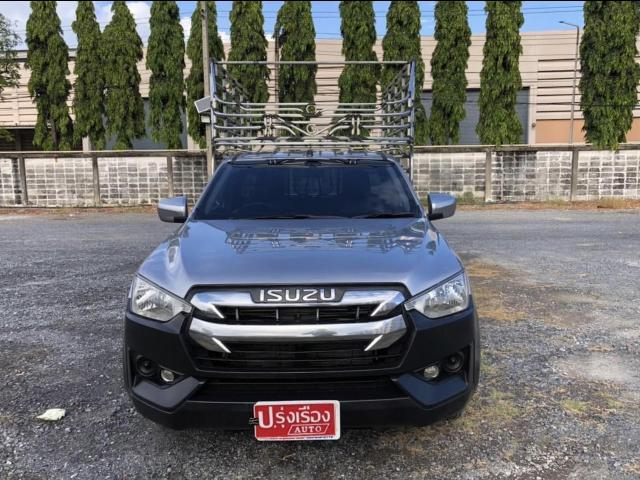pickup-truck: (110, 115, 508, 458)
